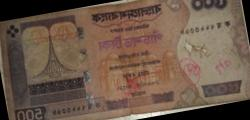500 taka: (8, 1, 240, 120)
